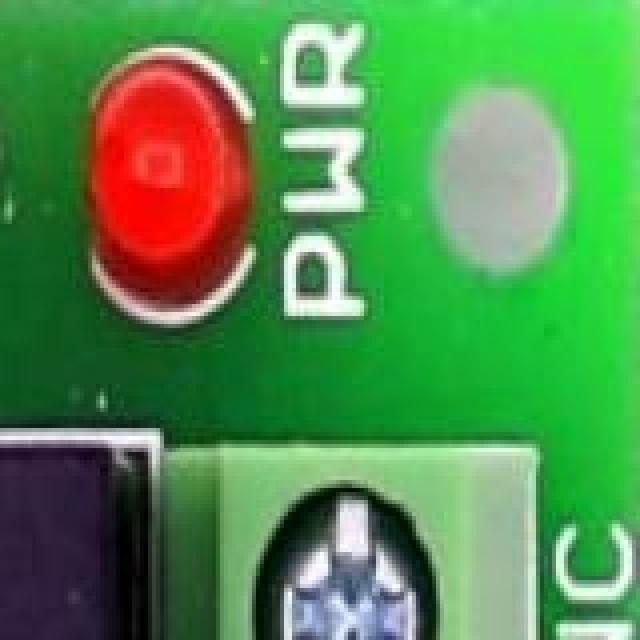LED: (80, 60, 282, 306)
connector: (168, 440, 548, 640)
relay: (0, 440, 164, 640)
